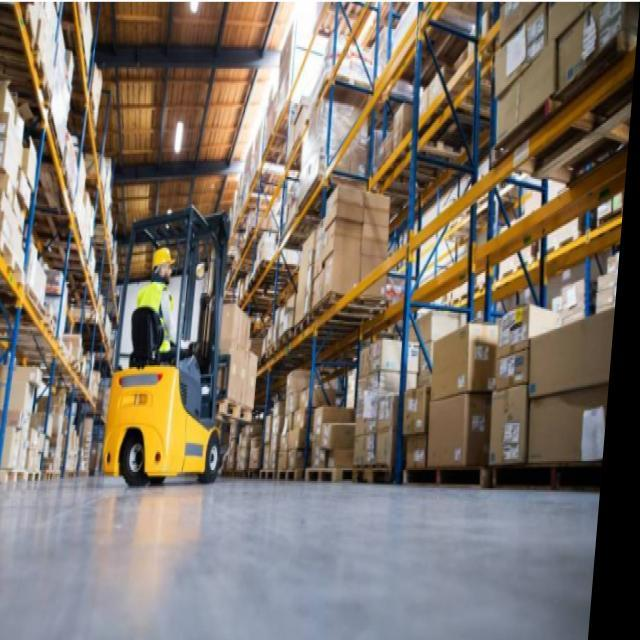hard_hat: (150, 244, 179, 286)
vest: (131, 280, 176, 354)
